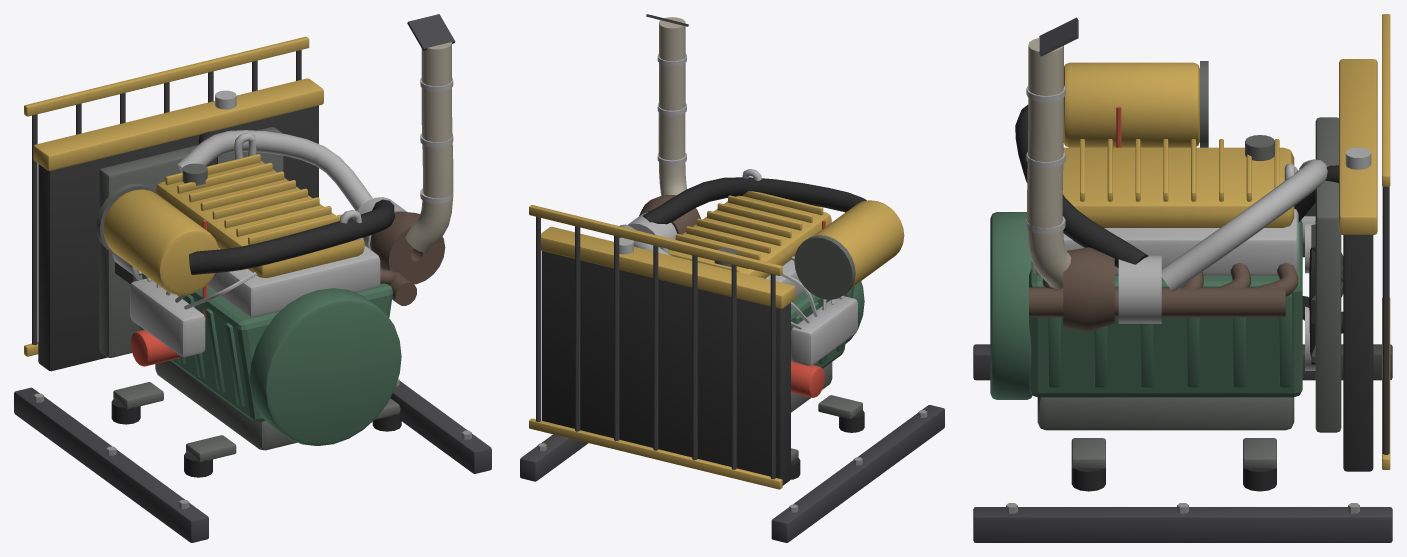
The model's file is engine.glb.
The picture shows the model from 3 angles, left to right: view 1: azimuth 30°, elevation 25°; view 2: azimuth 150°, elevation 25°; view 3: azimuth 270°, elevation 25°; orthographic projection. The views are drawn at different scales.
Parts seen in each view (by area): view 1: Part; view 2: Part; view 3: Part.
Boxes of the visible parts, x1=… form: Part: x1=14, y1=14, x2=491, y2=542; Part: x1=520, y1=14, x2=944, y2=542; Part: x1=973, y1=14, x2=1392, y2=542.
Bounding box in the file's own units: 0.96 × 1.3 × 0.98.
